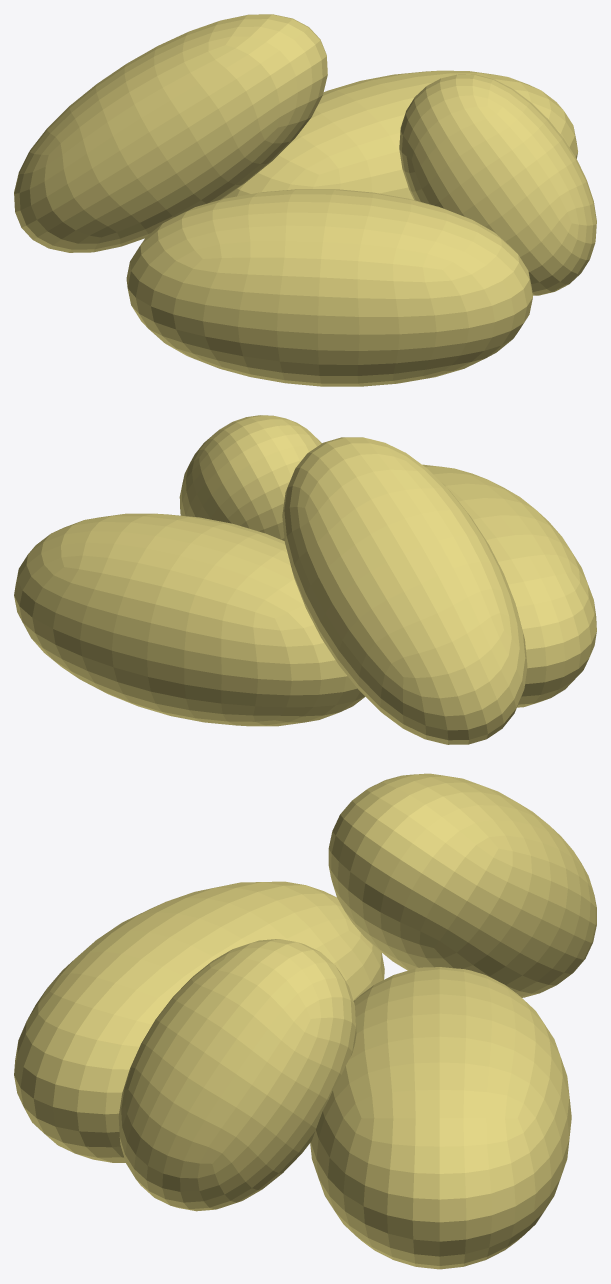
File: patates_raw.fbx
The picture shows the model from 3 angles, top to bottom: view 1: azimuth 30°, elevation 25°; view 2: azimuth 150°, elevation 25°; view 3: azimuth 270°, elevation 25°; orthographic projection. The views are drawn at different scales.
Visible parts, largest first — view 1: Cube_2, Cube, Cube_1, Cube_3; view 2: Cube_3, Cube, Cube_2, Cube_1; view 3: Cube_3, Cube_1, Cube, Cube_2.
Part boxes in pixels (x1,y1,x2,y2): Cube_2: (126, 189, 532, 386); Cube: (14, 14, 327, 252); Cube_1: (399, 74, 596, 295); Cube_3: (221, 70, 577, 199); Cube_3: (14, 513, 365, 726); Cube: (282, 437, 527, 744); Cube_2: (422, 464, 596, 707); Cube_1: (179, 415, 321, 540); Cube_3: (310, 967, 571, 1269); Cube_1: (118, 939, 356, 1211); Cube: (328, 773, 596, 997); Cube_2: (14, 881, 384, 1162).
Bounding box in the file's own units: 78.68 × 41.4 × 63.23.
